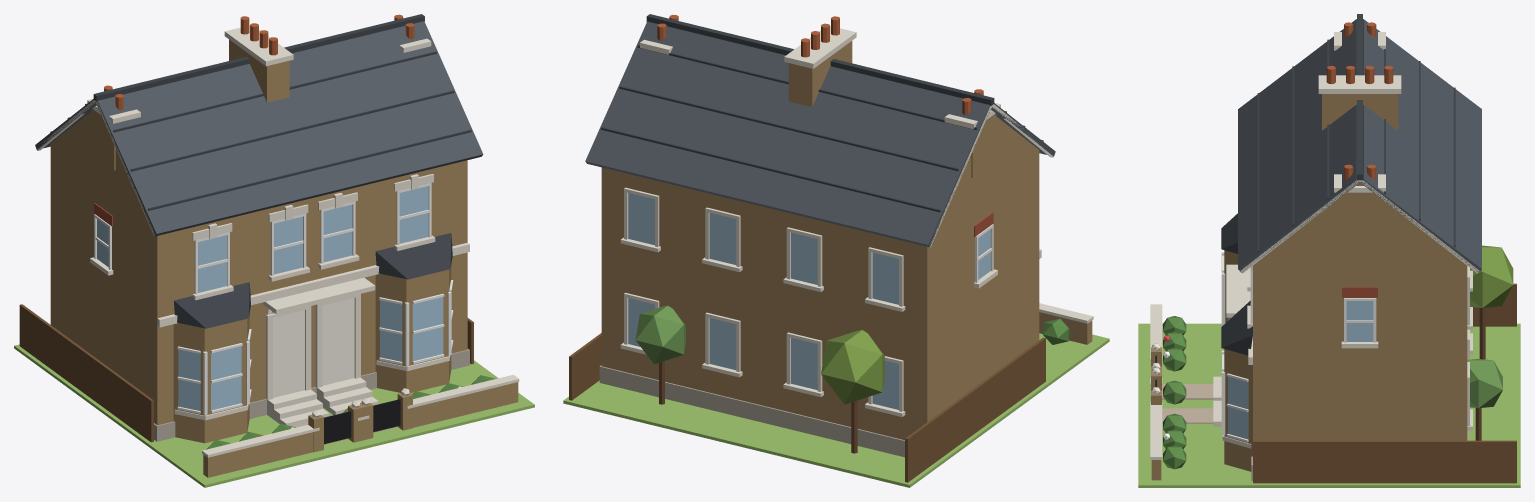
File: MustakilEv_londra_kulube_5_Hafif.fbx
The picture shows the model from 3 angles, left to right: view 1: azimuth 30°, elevation 25°; view 2: azimuth 150°, elevation 25°; view 3: azimuth 270°, elevation 25°; orthographic projection. The views are drawn at different scales.
Parts seen in each view (by area): view 1: MustakilEv_londra_kulube_5_Hafif; view 2: MustakilEv_londra_kulube_5_Hafif; view 3: MustakilEv_londra_kulube_5_Hafif.
Boxes of the visible parts, bbox=[...] form: MustakilEv_londra_kulube_5_Hafif: bbox=[14, 14, 534, 487]; MustakilEv_londra_kulube_5_Hafif: bbox=[563, 14, 1109, 487]; MustakilEv_londra_kulube_5_Hafif: bbox=[1138, 14, 1520, 487].
Bounding box in the file's own units: 10 × 9.79 × 10.
